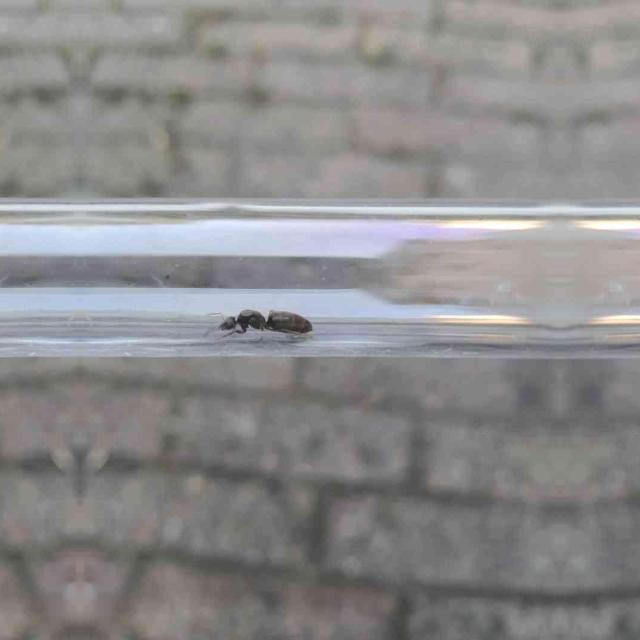Lasius: (212, 301, 314, 347)
